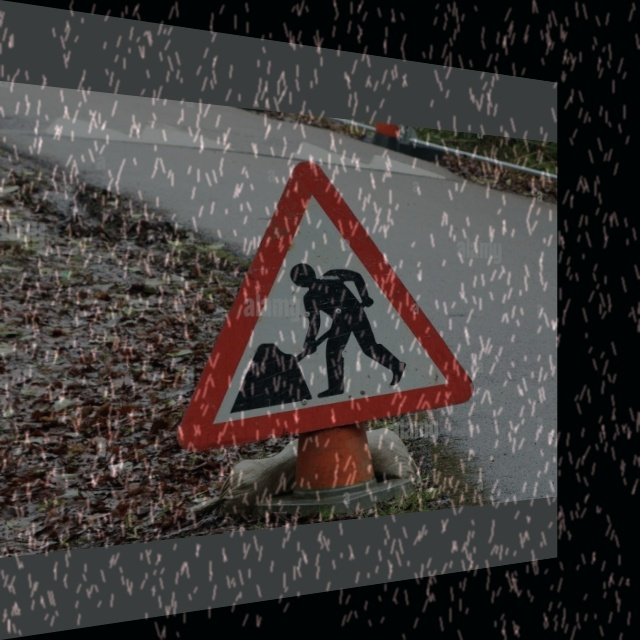Men_at_Work: (180, 155, 482, 443)
